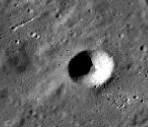crater: (52, 31, 132, 119)
